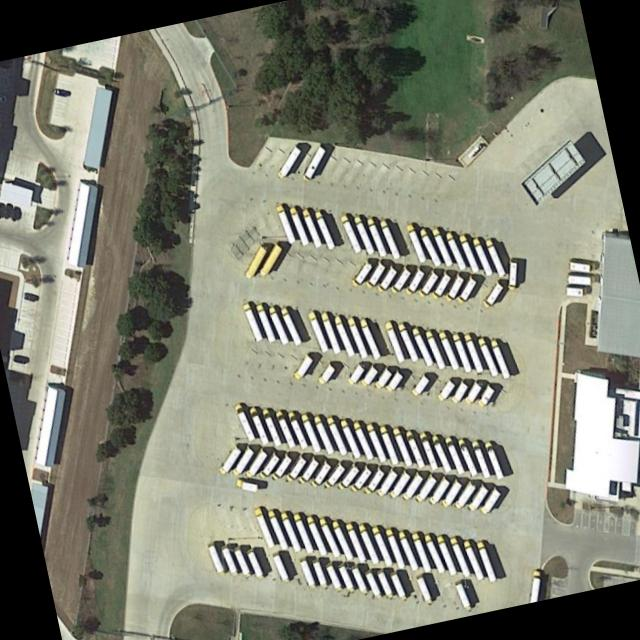large-vehicle: (315, 516, 340, 559), (433, 533, 457, 577), (343, 522, 367, 565), (311, 209, 335, 251), (421, 533, 445, 575), (395, 530, 419, 572), (416, 228, 441, 268), (357, 318, 380, 361), (291, 512, 314, 555), (409, 326, 433, 367), (443, 231, 467, 272), (278, 307, 302, 348), (460, 540, 484, 581), (318, 312, 340, 356), (331, 316, 354, 358), (377, 219, 400, 261), (369, 526, 392, 568), (304, 515, 327, 557), (278, 511, 301, 553), (251, 507, 274, 549), (363, 424, 387, 464), (338, 214, 362, 254), (301, 145, 326, 183), (345, 317, 367, 360), (306, 310, 328, 353), (448, 536, 470, 579), (461, 333, 484, 374), (422, 330, 445, 371), (395, 323, 418, 364), (350, 420, 373, 461), (240, 303, 263, 344), (351, 216, 374, 257), (389, 427, 412, 468), (274, 145, 300, 181), (488, 338, 510, 380), (286, 206, 308, 248), (356, 524, 378, 566), (474, 541, 496, 583), (409, 532, 431, 574), (383, 528, 405, 570), (330, 520, 352, 562), (232, 403, 255, 443), (436, 332, 459, 372), (338, 419, 361, 459), (310, 415, 333, 455), (403, 224, 426, 264), (482, 238, 505, 278), (265, 306, 288, 346), (383, 321, 404, 364), (476, 337, 498, 378), (253, 303, 275, 344), (300, 208, 322, 249), (265, 510, 287, 551), (285, 411, 308, 450), (259, 408, 281, 448), (273, 410, 295, 450), (470, 238, 492, 278), (364, 218, 386, 258), (442, 436, 464, 476), (403, 430, 425, 470), (450, 333, 471, 374), (325, 416, 346, 457), (299, 413, 320, 454), (456, 234, 478, 273), (482, 441, 503, 481), (258, 243, 281, 279), (247, 406, 268, 445), (430, 228, 451, 267), (378, 427, 399, 466), (456, 439, 477, 478), (417, 432, 438, 471), (243, 246, 266, 281), (429, 435, 450, 473), (469, 441, 489, 480), (230, 447, 254, 477), (217, 446, 240, 476), (387, 470, 410, 500), (245, 449, 267, 479), (388, 267, 410, 297), (427, 476, 449, 506), (206, 545, 225, 579), (363, 261, 385, 290), (414, 475, 436, 504), (455, 275, 476, 305), (232, 549, 251, 582), (257, 452, 279, 480), (374, 470, 396, 498), (415, 271, 437, 299), (478, 489, 500, 517), (297, 457, 318, 486), (442, 275, 463, 304), (375, 266, 396, 295), (440, 479, 461, 508), (401, 473, 422, 502), (348, 467, 370, 494), (219, 547, 238, 578), (245, 551, 264, 582), (362, 468, 383, 496), (481, 282, 502, 310), (453, 483, 474, 511), (270, 455, 291, 483), (430, 273, 450, 302), (453, 583, 472, 613), (336, 465, 357, 492), (284, 456, 305, 483), (466, 486, 487, 513), (403, 268, 423, 296), (322, 465, 344, 490), (350, 262, 371, 288), (310, 462, 330, 489), (414, 577, 432, 607), (271, 555, 289, 585), (298, 560, 315, 591), (292, 355, 312, 381), (389, 573, 406, 603), (311, 561, 328, 591), (350, 567, 367, 597), (337, 565, 354, 595), (363, 571, 381, 599), (376, 571, 393, 600), (325, 564, 342, 593), (568, 259, 595, 273), (506, 262, 517, 291), (567, 274, 593, 286)
small-vehicle: (382, 368, 405, 395), (461, 380, 483, 407), (448, 379, 470, 406), (371, 366, 393, 391), (409, 373, 431, 398), (435, 378, 456, 403), (475, 383, 495, 409), (344, 364, 365, 388), (315, 364, 336, 388), (358, 364, 378, 389), (234, 478, 259, 495), (564, 285, 585, 298), (50, 86, 68, 99), (9, 205, 21, 223), (3, 202, 12, 220), (12, 355, 27, 365), (22, 292, 35, 303), (0, 203, 4, 220), (0, 95, 5, 104)
